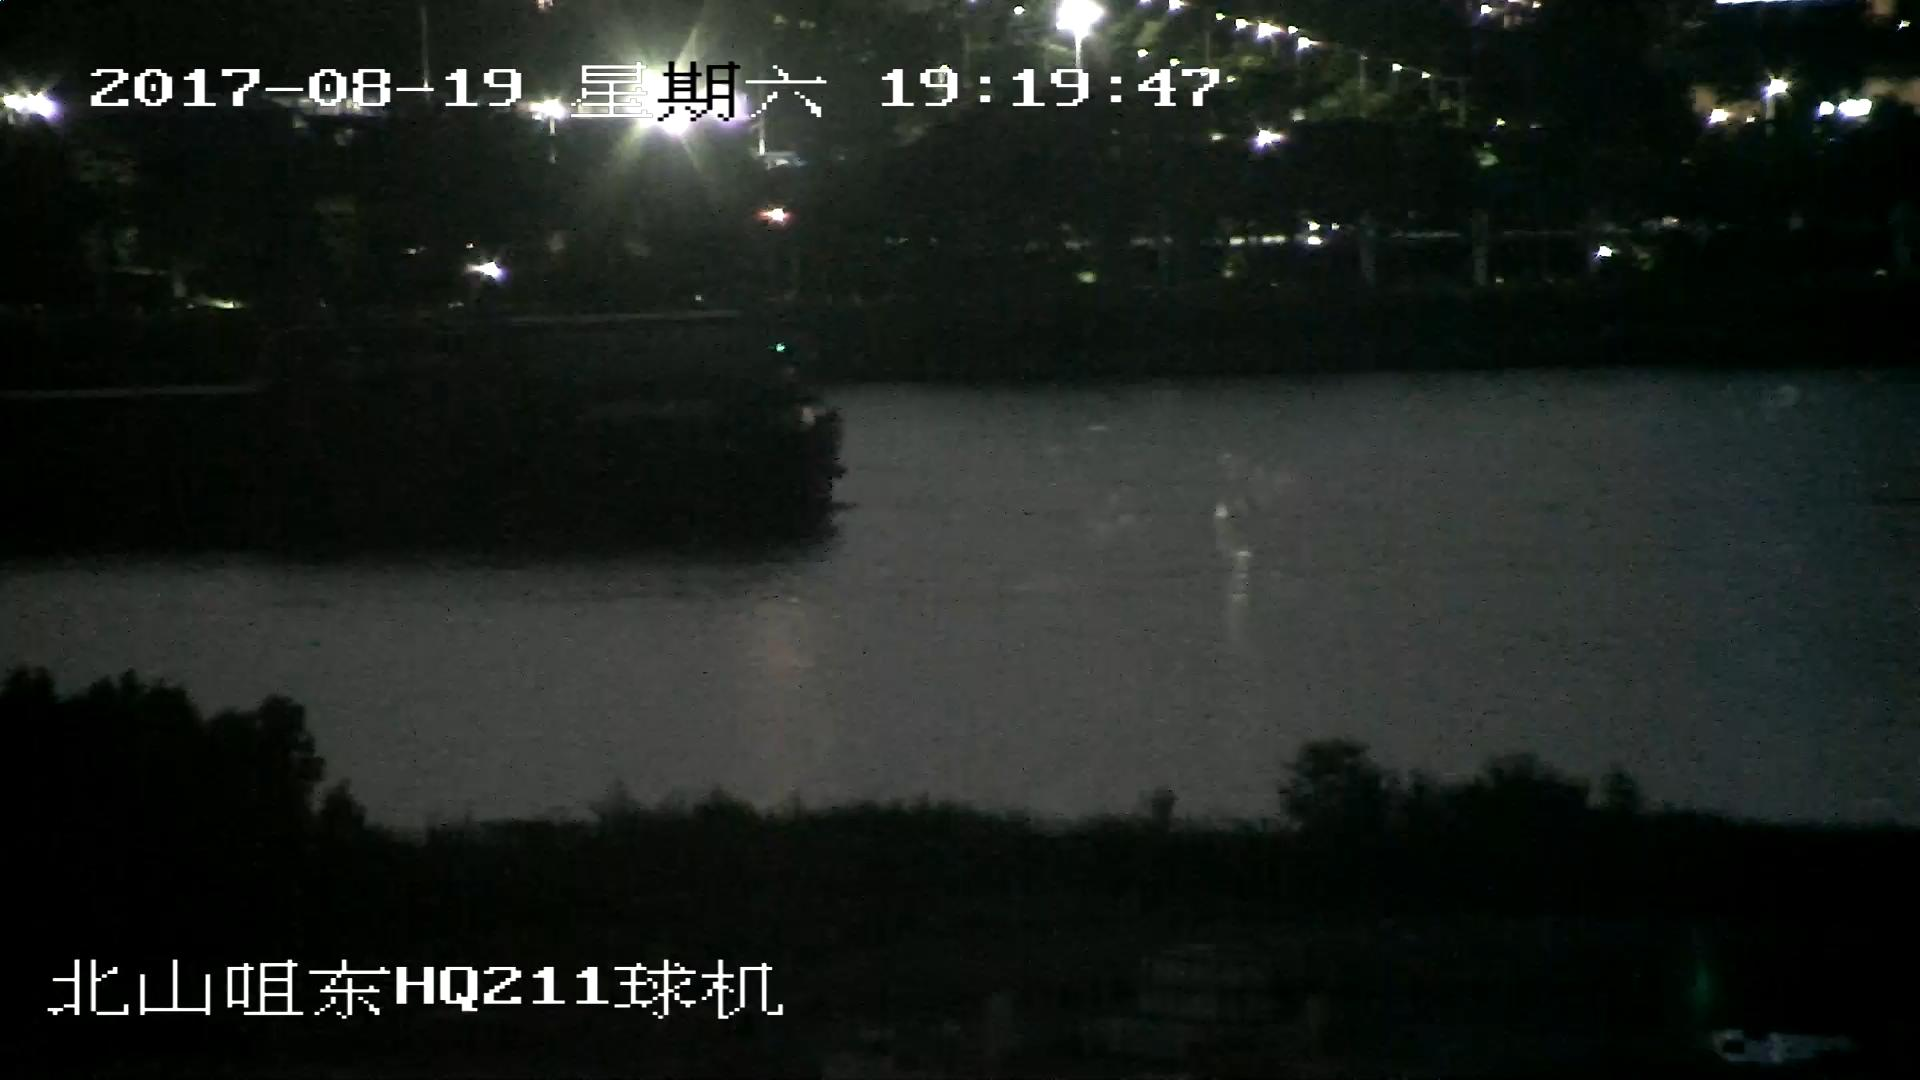container ship: (1, 316, 834, 551)
